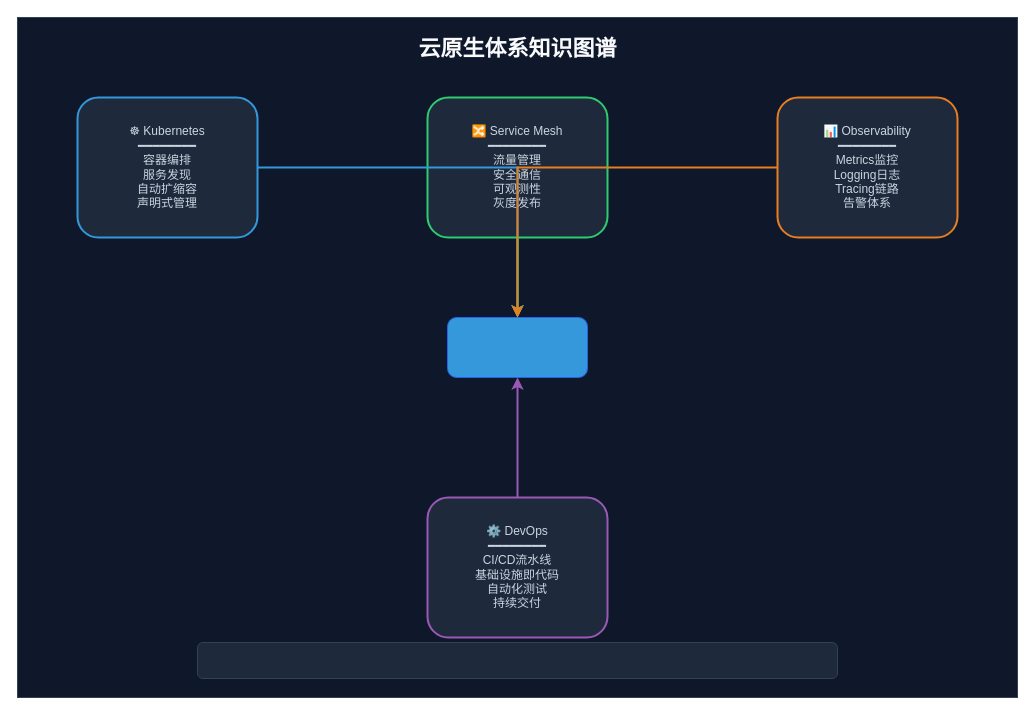
Some shapes in this 1035 by 715 pixel diagram are drawn without their labels. The centre of each missing label's shape, as x and y in pixels:
"云原生 核心体系" belongs at (x=517, y=347).
"图例： 🔵 K8s 🟢 Service Mesh 🟠 Observability 🟣 DevOps 四者构成云原生技术栈" belongs at (x=517, y=660).
